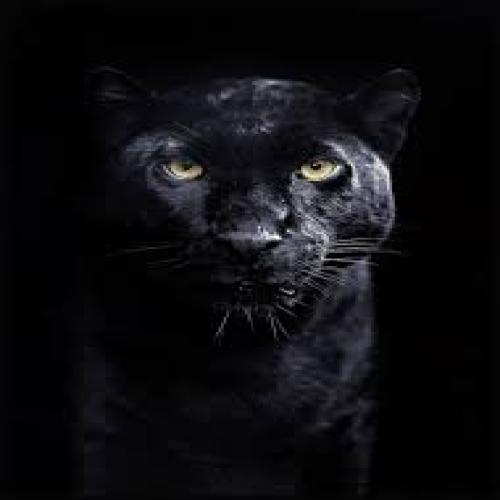panther-endangered: (85, 56, 420, 500)
